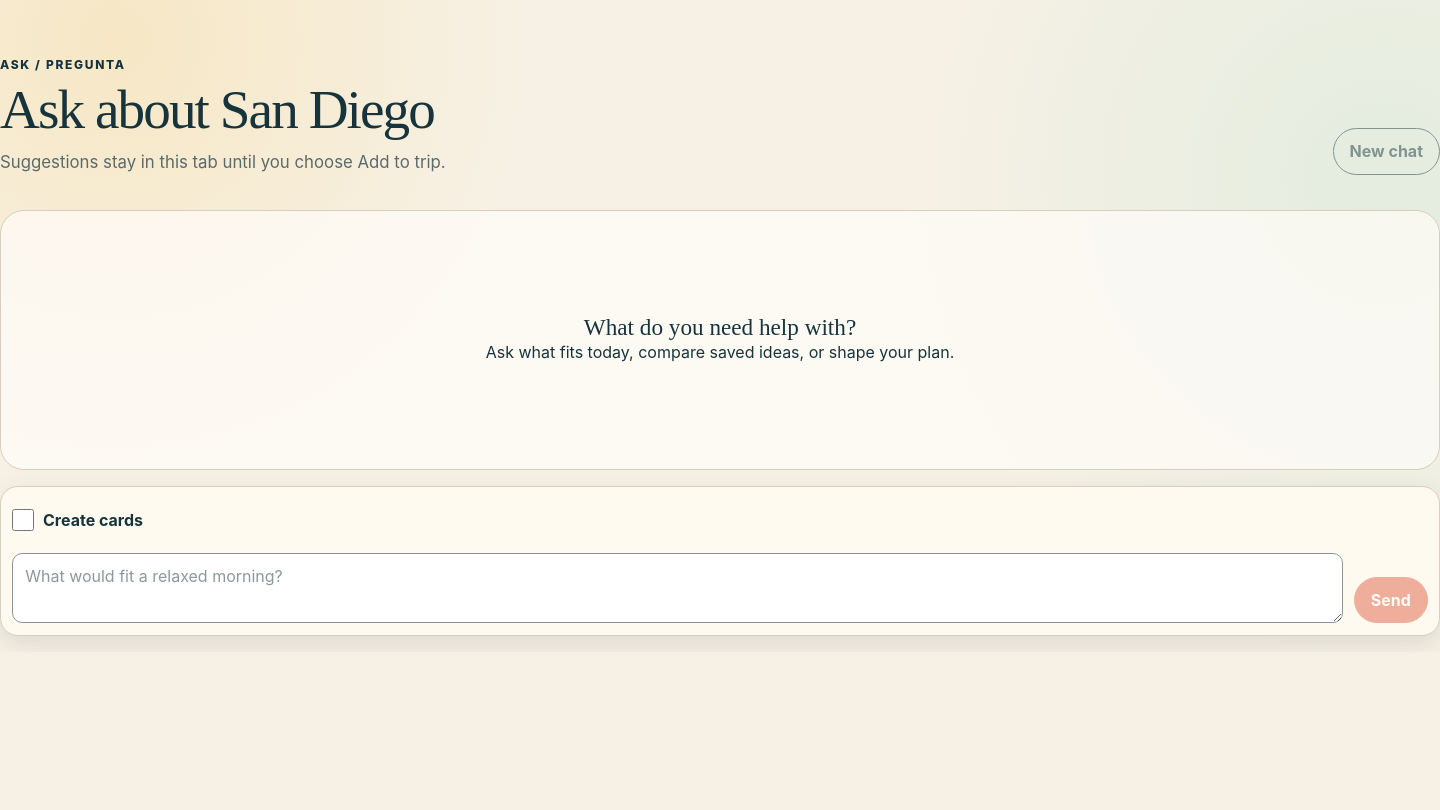
renders a schedule confirmation and adds its exact itinerary values only after confirmation
Type "Add Tacos to my plan tomorrow at 9 for 2 hours" into the text box named "Ask about this trip" at x=678, y=588, box x1=12 y1=552 x2=1343 y2=623
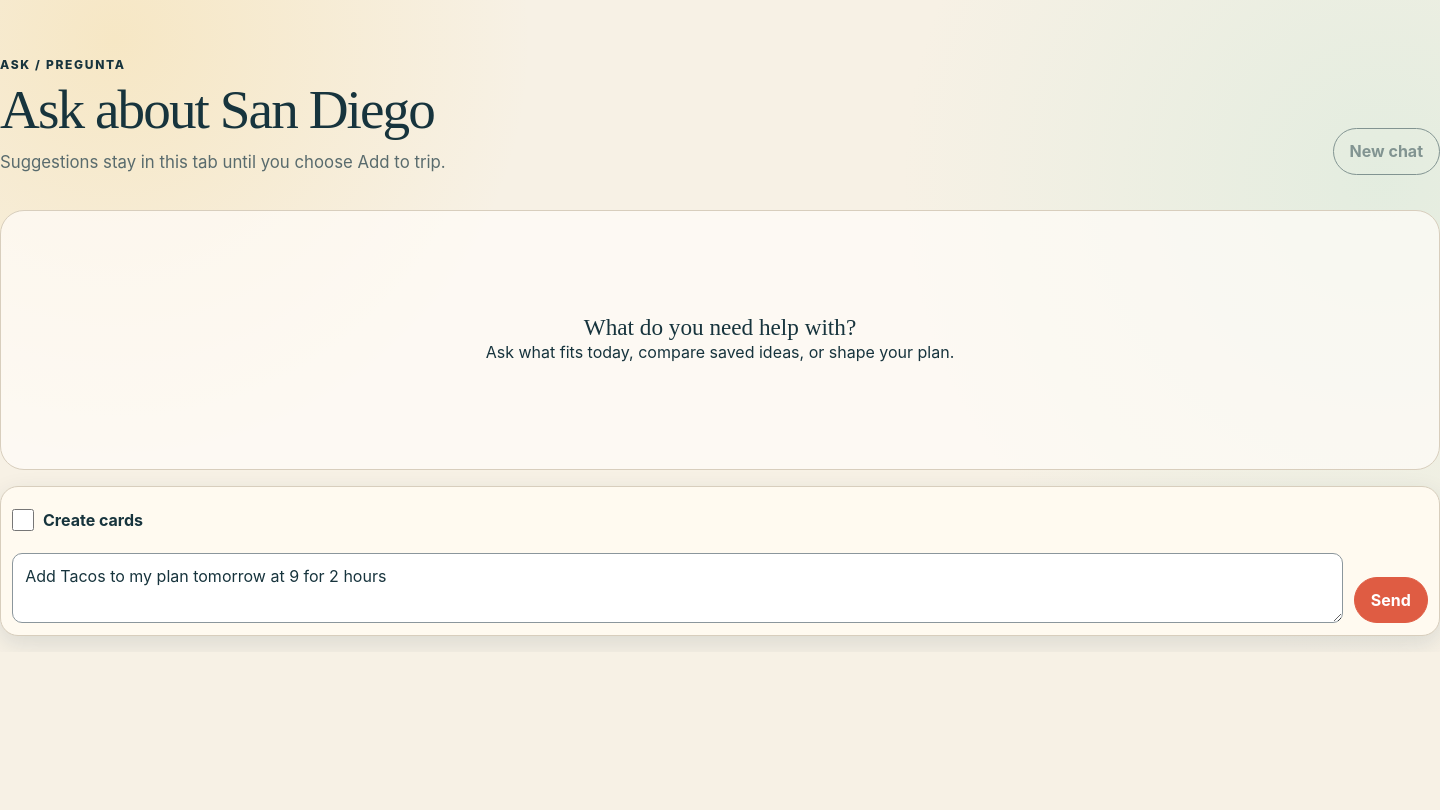
Press Enter in the text box named "Ask about this trip", box x1=12 y1=552 x2=1343 y2=623
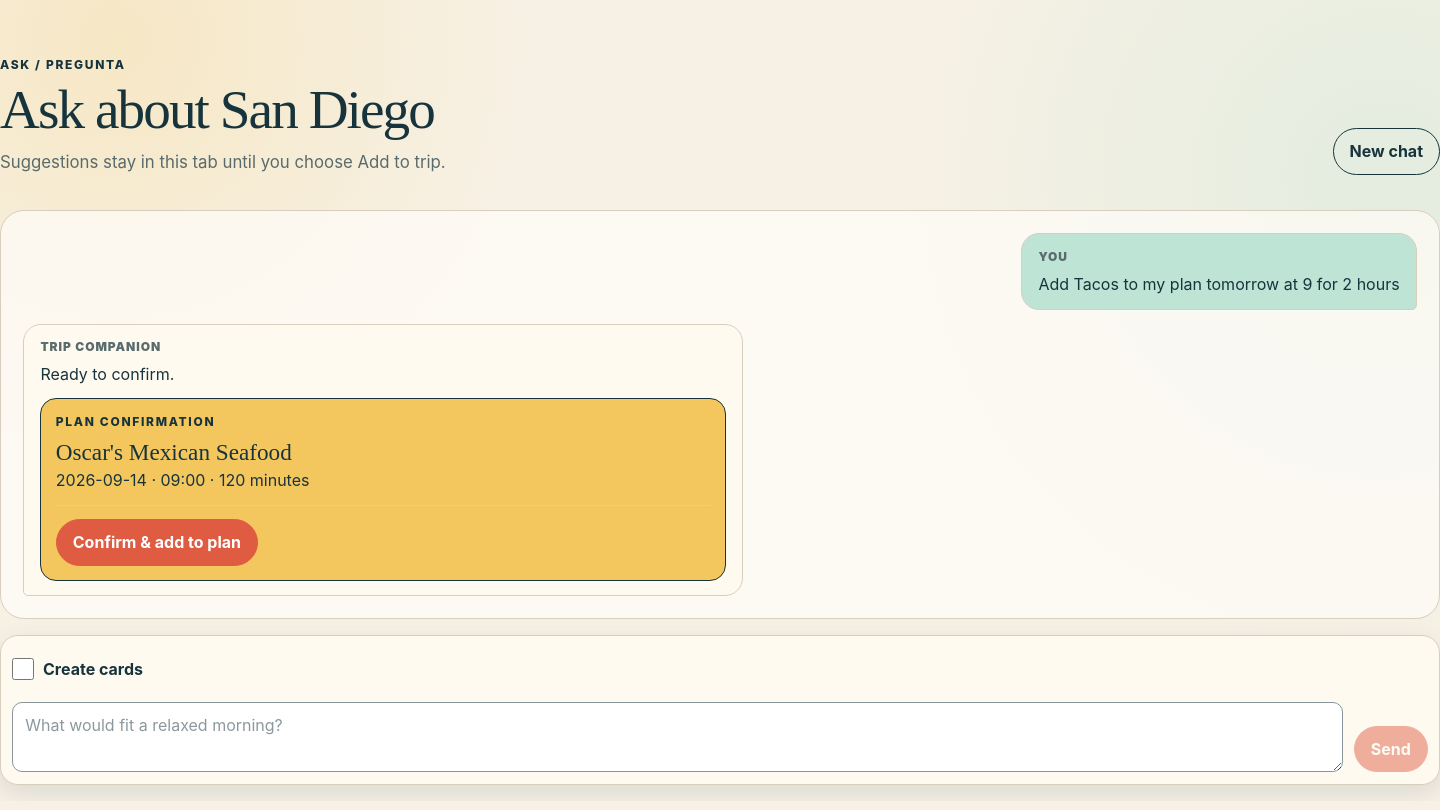
Check: the element named "Schedule Oscar's Mexican Seafood" shows "2026-09-14 · 09:00 · 120 minutes", box x1=40 y1=398 x2=726 y2=581
Click the button "Confirm & add to plan" at x=157, y=542, box x1=56 y1=519 x2=258 y2=566
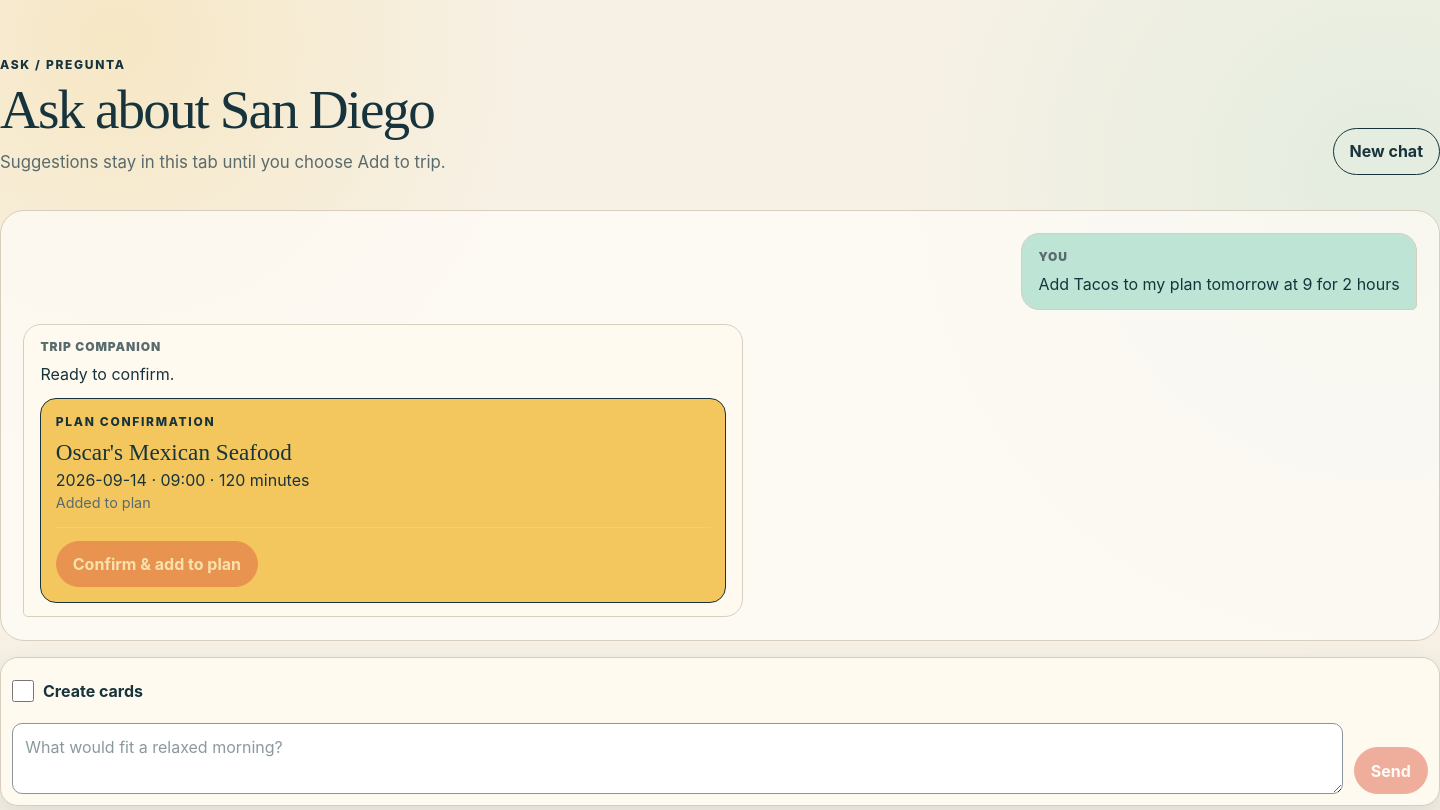
Check: the text "Added to plan" is shown, box x1=56 y1=494 x2=151 y2=511
